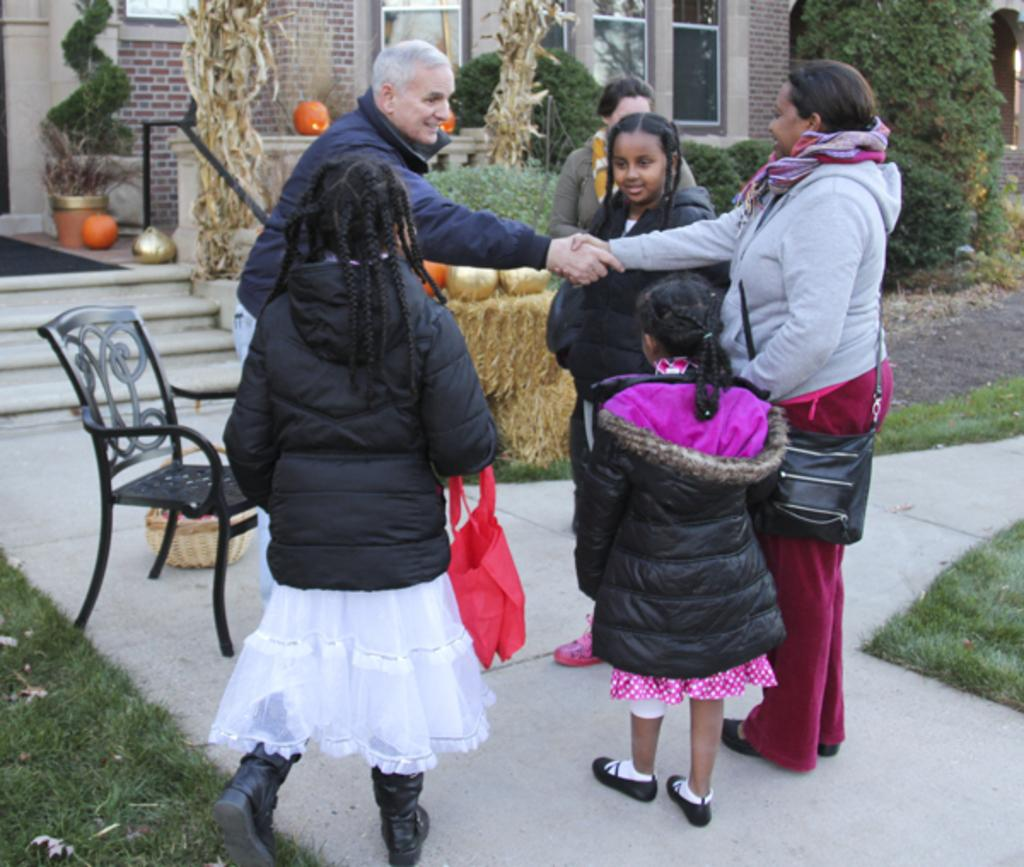Chair: (43, 302, 236, 647)
